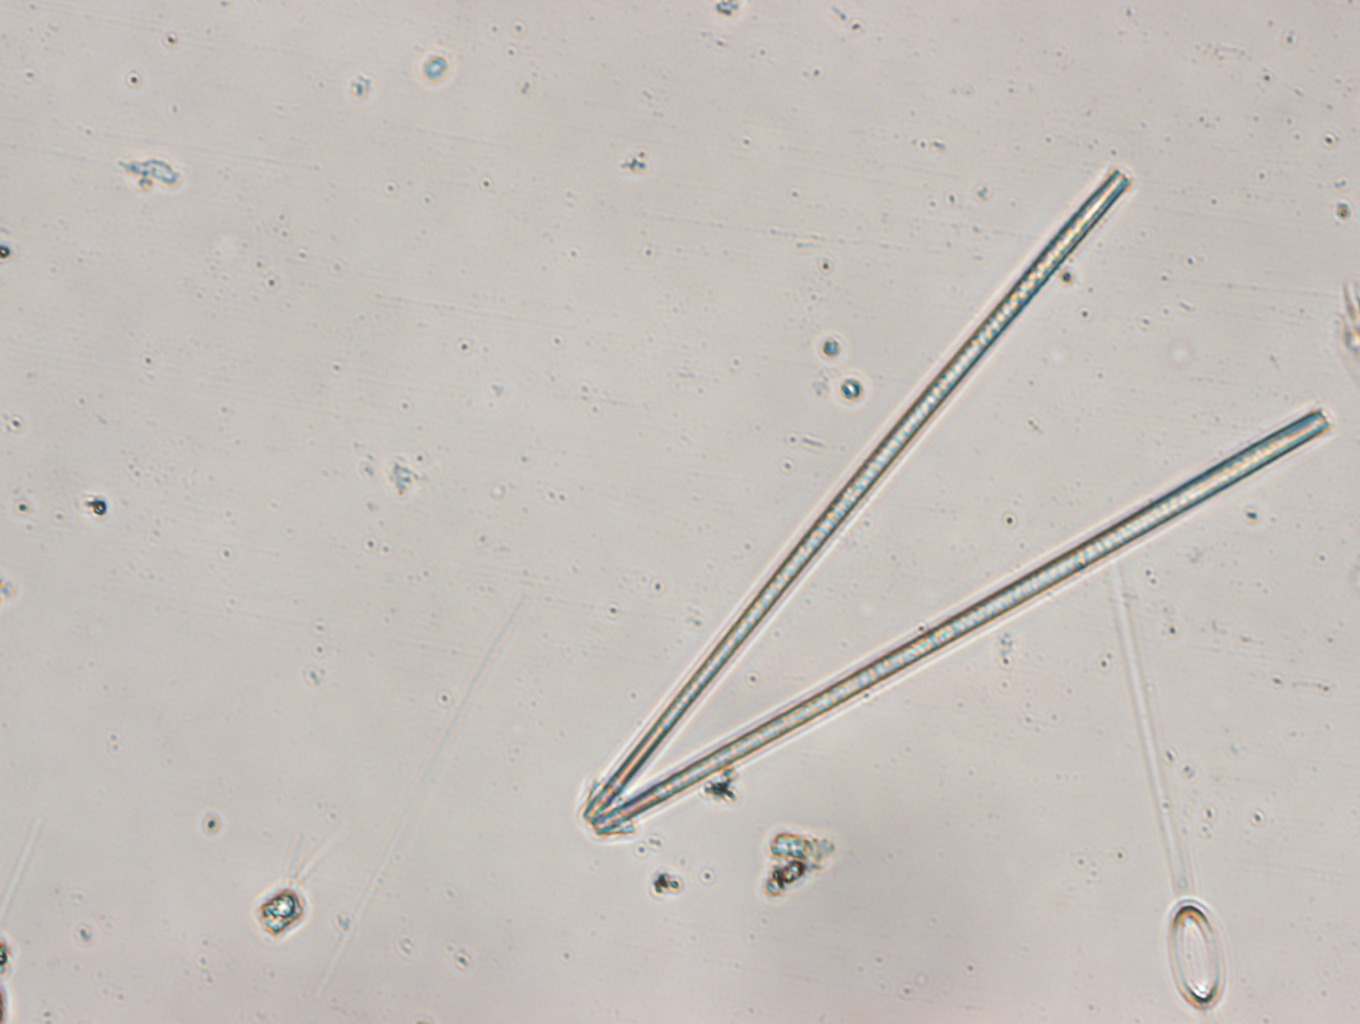thalassionema frauenfeldii: (573, 172, 1334, 841)
